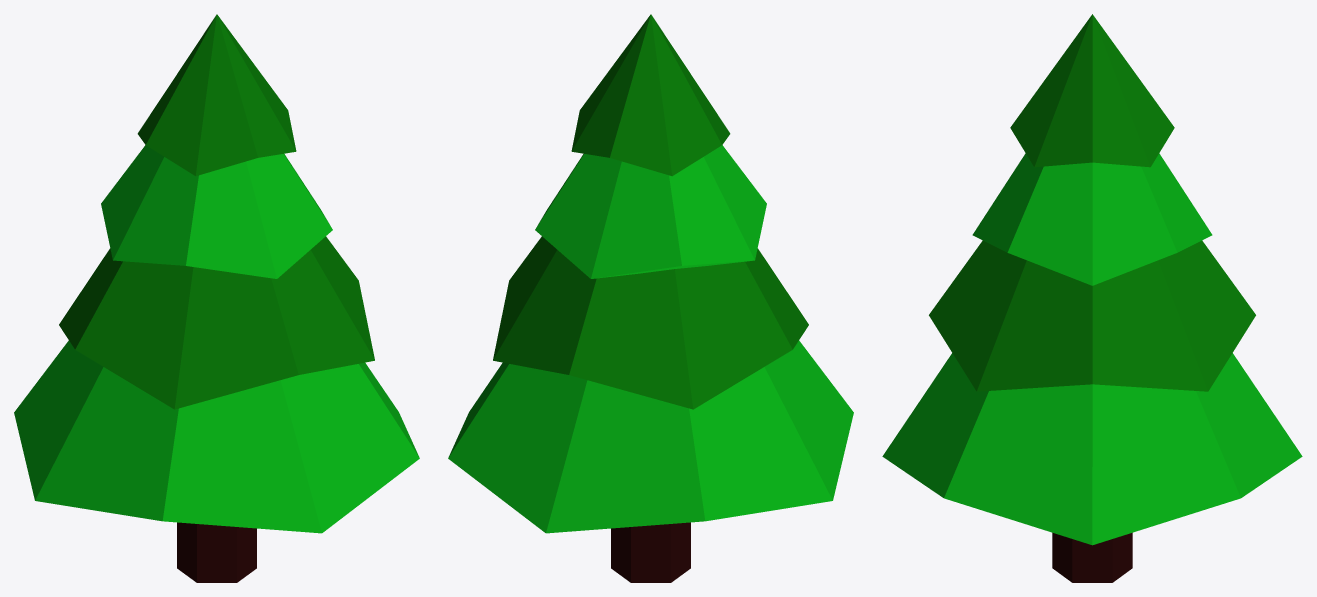
The model's file is Tree 3.fbx.
3 views of the same model, side by side, from view 1: azimuth 30°, elevation 25°; view 2: azimuth 150°, elevation 25°; view 3: azimuth 270°, elevation 25° (orthographic).
Parts seen in each view (by area): view 1: Cylinder; view 2: Cylinder; view 3: Cylinder.
Part boxes in pixels (x1=…): Cylinder: x1=14, y1=14, x2=419, y2=582; Cylinder: x1=448, y1=14, x2=853, y2=582; Cylinder: x1=882, y1=14, x2=1302, y2=582.
Size of the model in its own units: 2.62 by 3.82 by 2.62.
